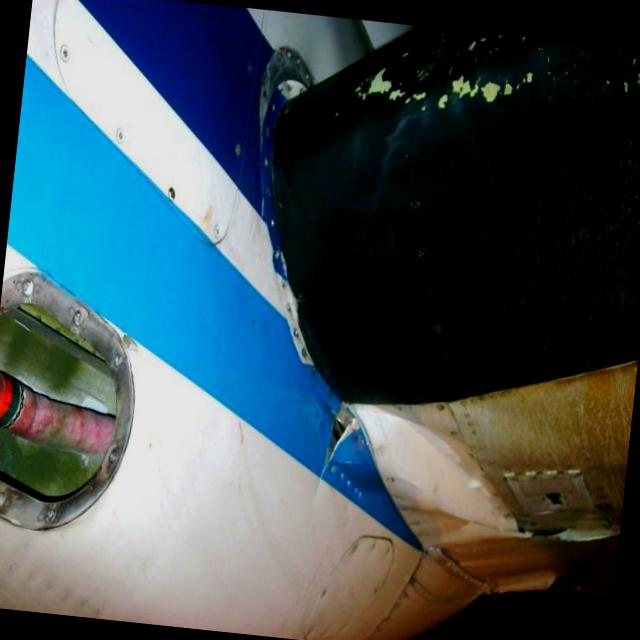crack: (324, 400, 366, 472)
